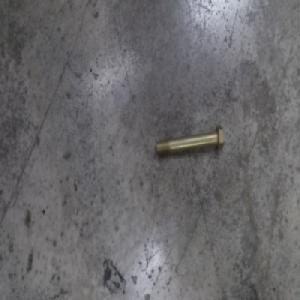Bolt: (154, 123, 224, 157)
